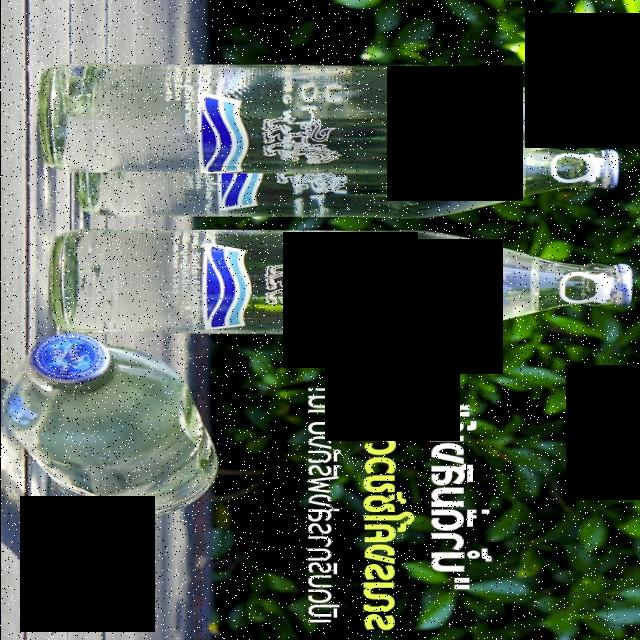glass-bottle: (25, 53, 640, 181), (35, 225, 640, 347)
